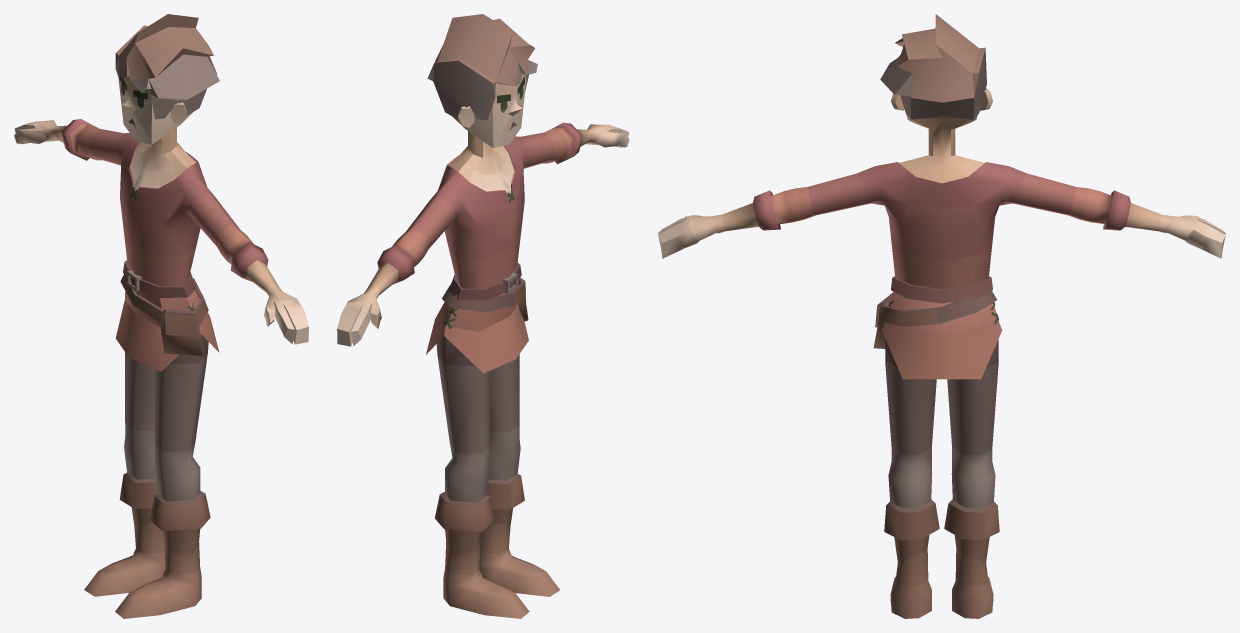
The model's file is guy.glb.
The picture shows the model from 3 angles, left to right: view 1: azimuth 30°, elevation 25°; view 2: azimuth 150°, elevation 25°; view 3: azimuth 270°, elevation 25°; orthographic projection. The views are drawn at different scales.
Visible parts, largest first — view 1: Guy.001; view 2: Guy.001; view 3: Guy.001.
Part boxes in pixels (x1,y1,x2,y2): Guy.001: (14,14,308,618); Guy.001: (337,14,629,618); Guy.001: (658,14,1225,618).
Size of the model in its own units: 0.4417 by 2.26 by 1.96.
